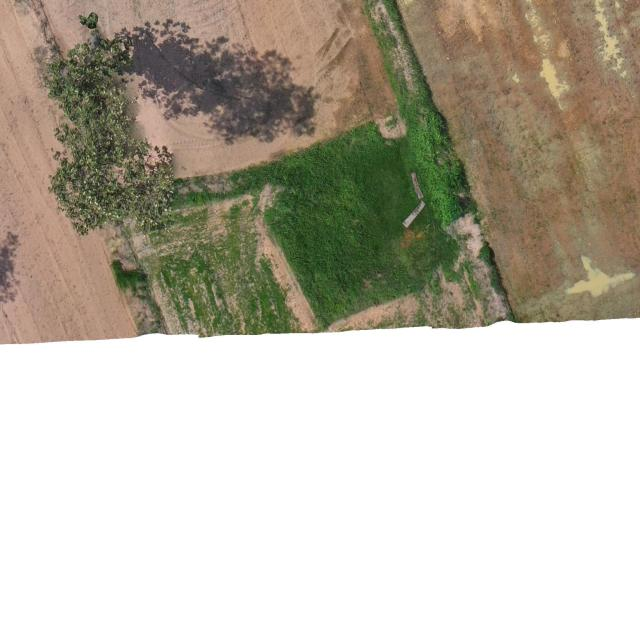Tree: (42, 35, 176, 236)
